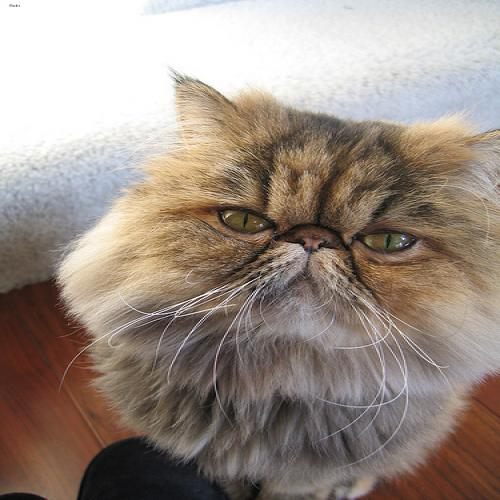persian: (113, 62, 500, 381)
